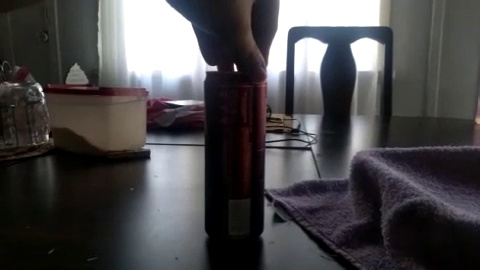bohemia: (182, 56, 284, 255)
